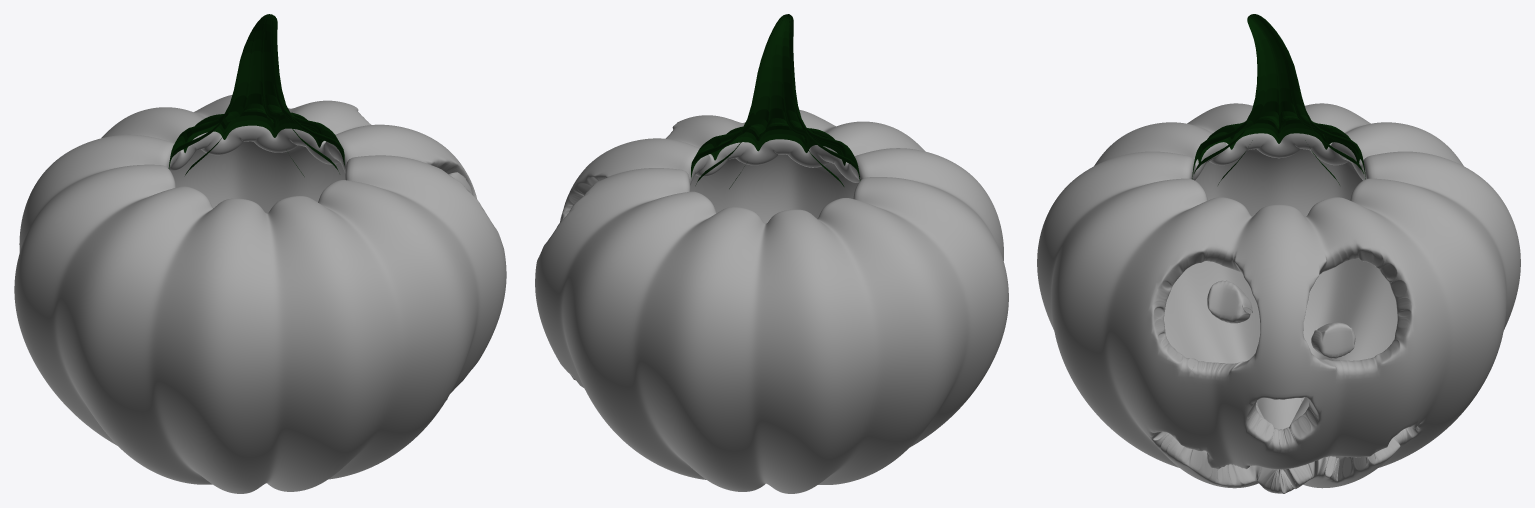
The model's file is Citrouille d'Halloween By Kikapp.obj.
The picture shows the model from 3 angles, left to right: view 1: azimuth 30°, elevation 25°; view 2: azimuth 150°, elevation 25°; view 3: azimuth 270°, elevation 25°; orthographic projection. The views are drawn at different scales.
Parts seen in each view (by area): view 1: Cube, Cube.001; view 2: Cube, Cube.001; view 3: Cube, Cube.001.
Part boxes in pixels (x1=…): Cube: x1=14, y1=95, x2=506, y2=493; Cube.001: x1=168, y1=14, x2=344, y2=176; Cube: x1=535, y1=109, x2=1008, y2=493; Cube.001: x1=691, y1=14, x2=860, y2=188; Cube: x1=1037, y1=103, x2=1520, y2=493; Cube.001: x1=1192, y1=14, x2=1365, y2=184.
Size of what is drawn, in the model's own units: 5.89 by 6.2 by 5.94.
